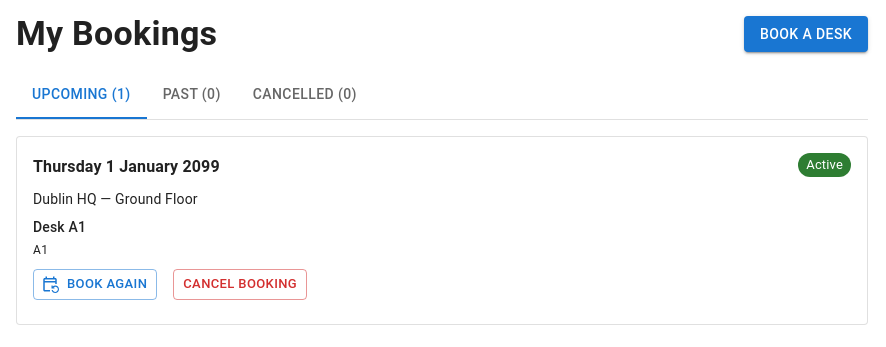
Scenario: MyBookingsPage › shows the Past empty state on the Past tab when there are none
Click the tab "Past (0)": click(192, 95) x1=147 y1=71 x2=237 y2=119
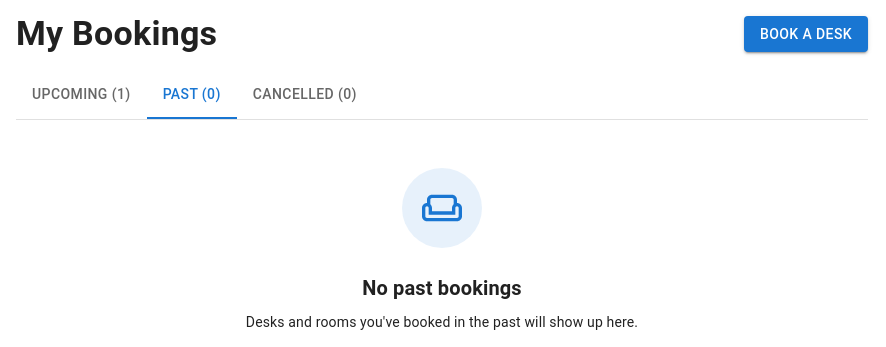
expect the heading "No past bookings" is shown: met, box x1=362 y1=276 x2=522 y2=300
